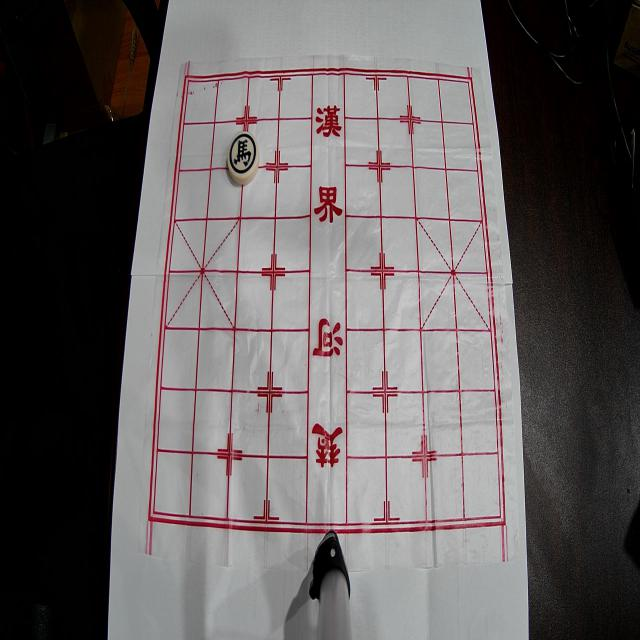black-horse: (228, 132, 260, 184)
